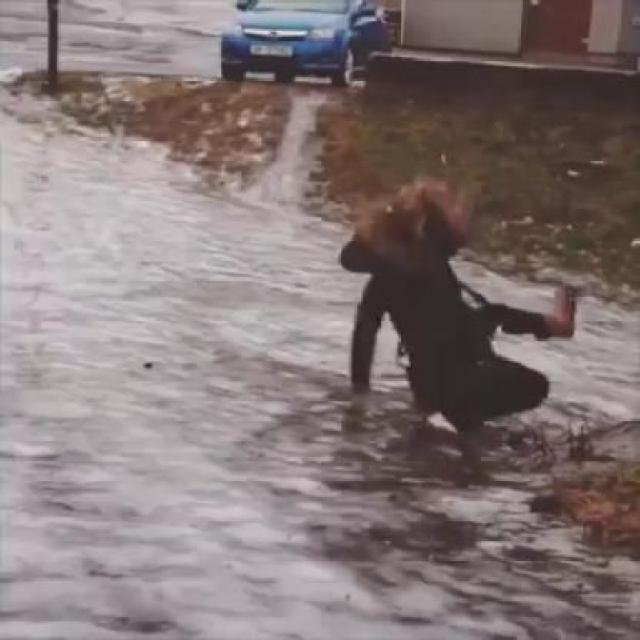fall: (328, 170, 574, 442)
